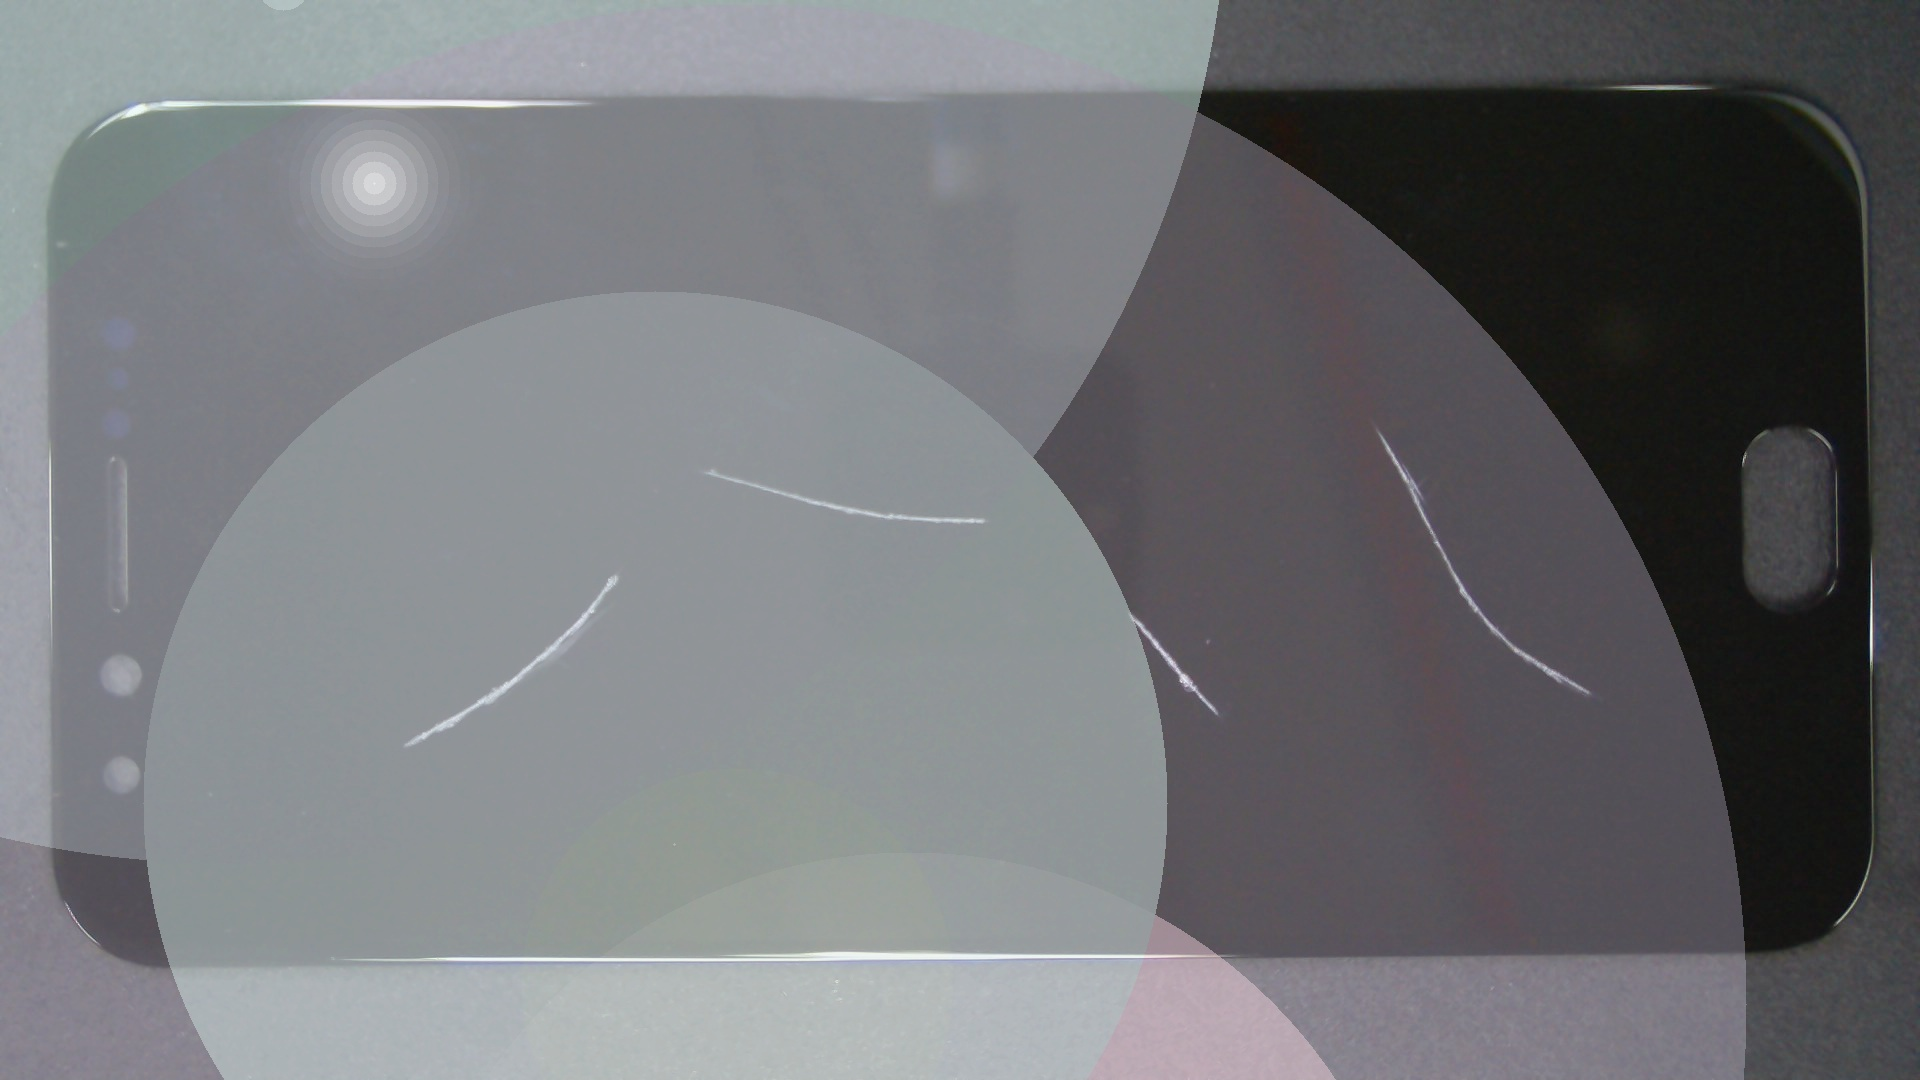oil: (564, 305, 1692, 920), (688, 213, 1920, 645), (310, 287, 926, 862), (356, 233, 1063, 704)
